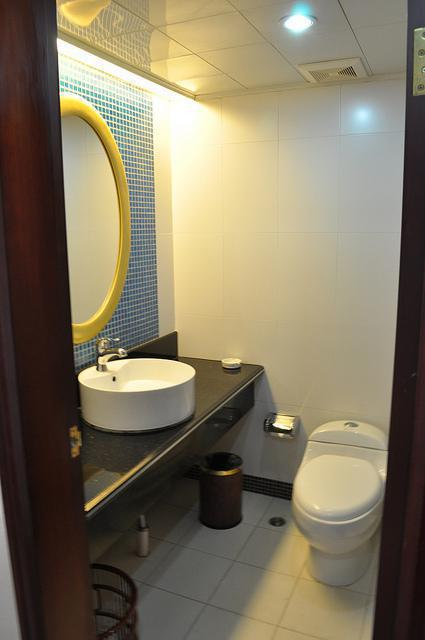Bote de Basura: (197, 449, 242, 533)
Lavamanos: (73, 332, 195, 433)
